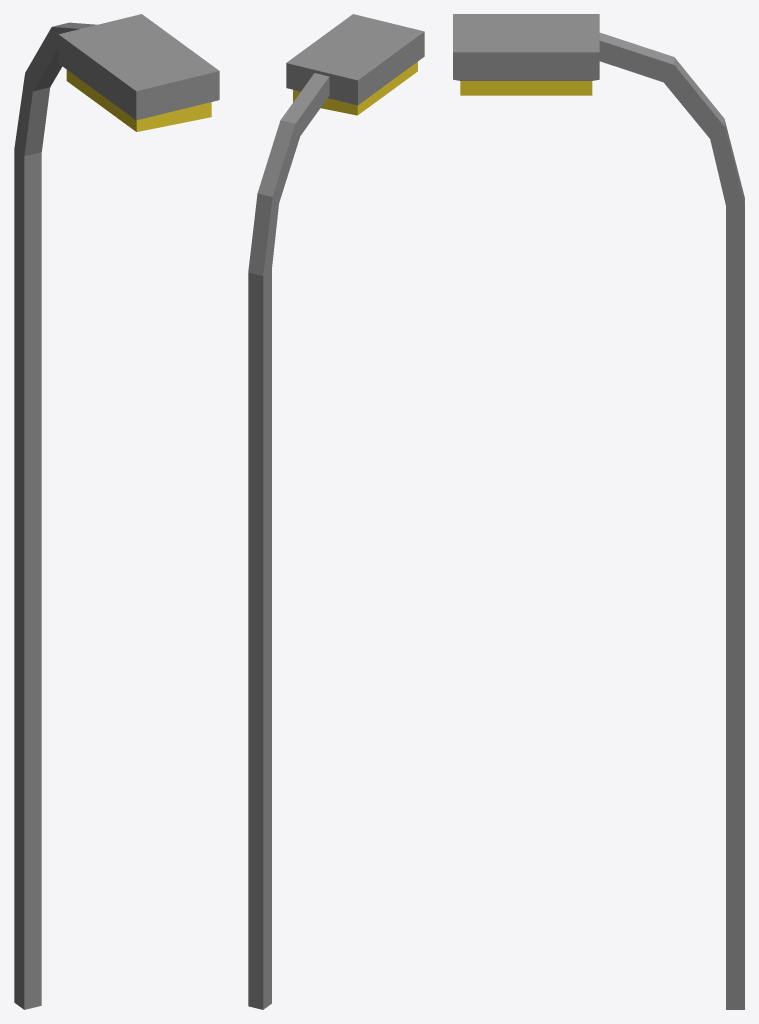
Rendered from FBX_Light_A.FBX.
3 views of the same model, side by side, from view 1: azimuth 30°, elevation 25°; view 2: azimuth 150°, elevation 25°; view 3: azimuth 270°, elevation 25° (orthographic). The views are drawn at different scales.
Visible parts, largest first — view 1: Light_A; view 2: Light_A; view 3: Light_A.
Boxes of the visible parts, bbox=[...] form: Light_A: bbox=[14, 14, 219, 1009]; Light_A: bbox=[248, 14, 424, 1009]; Light_A: bbox=[453, 14, 744, 1009].
Size of the model in its own units: 0.4782 by 5.66 by 1.54.
